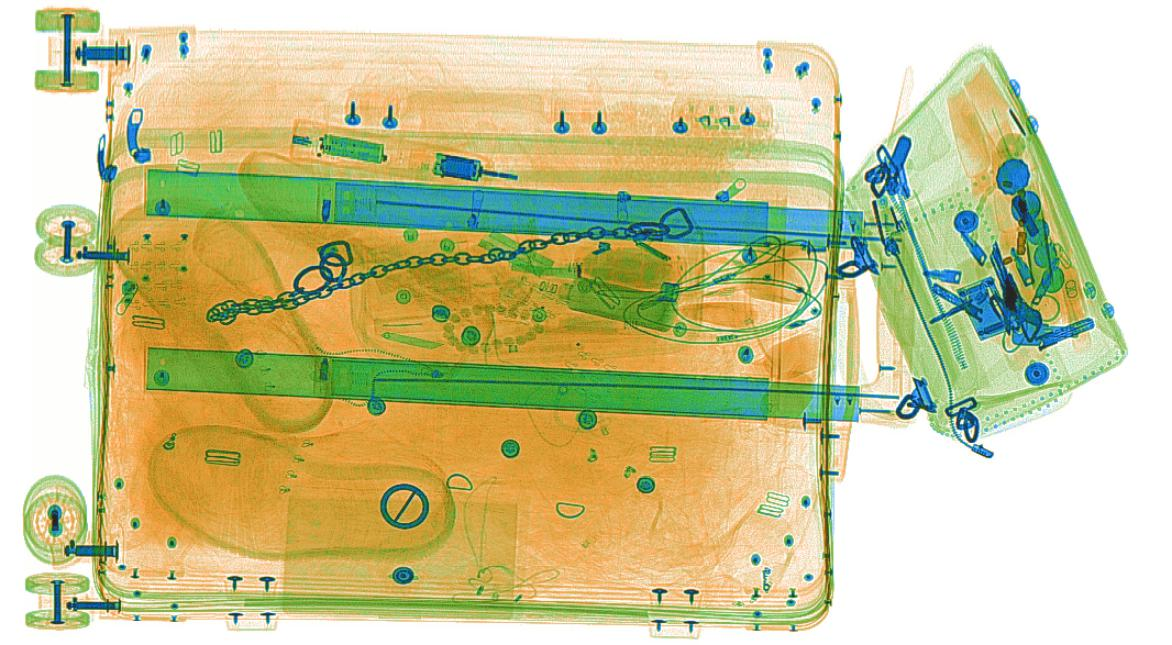battery: (318, 133, 386, 165)
knife: (377, 330, 444, 350)
